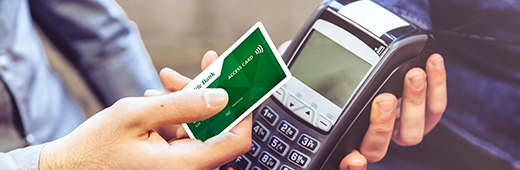tarjeta: (176, 20, 294, 143)
